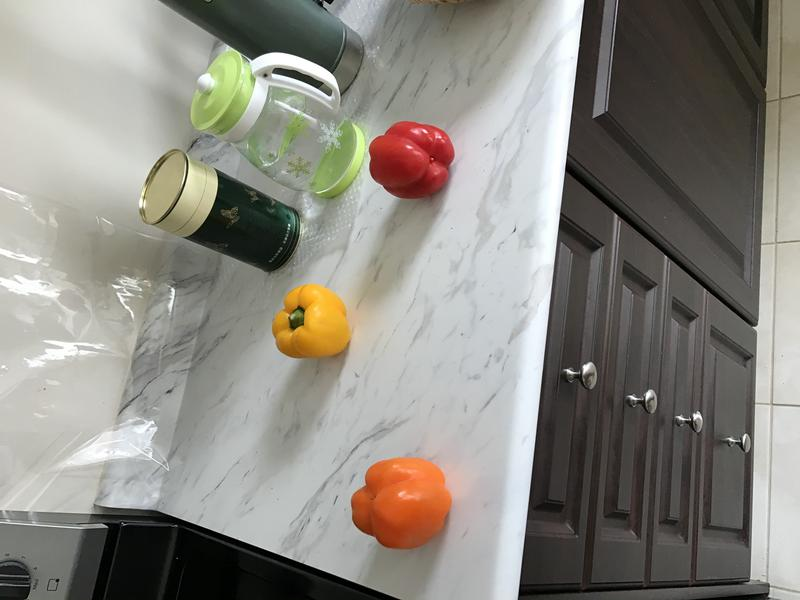orange_pepper: (348, 453, 451, 555)
red_pepper: (362, 119, 461, 205)
yellow_pepper: (266, 279, 356, 363)
